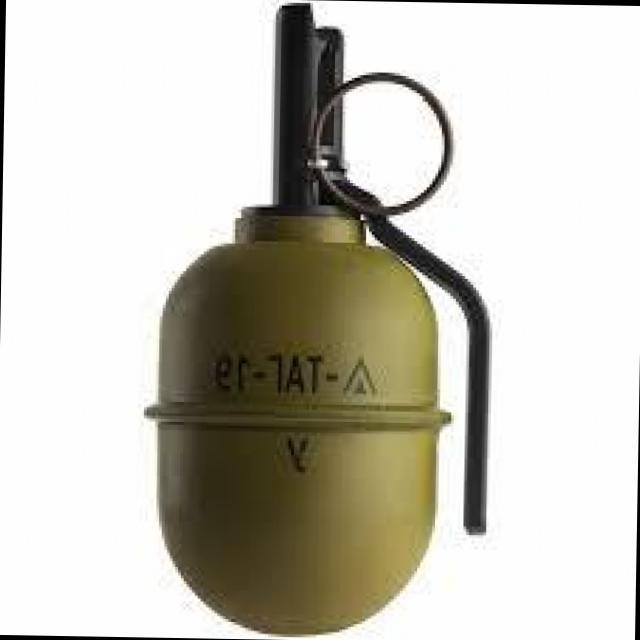grenade: (135, 0, 499, 634)
